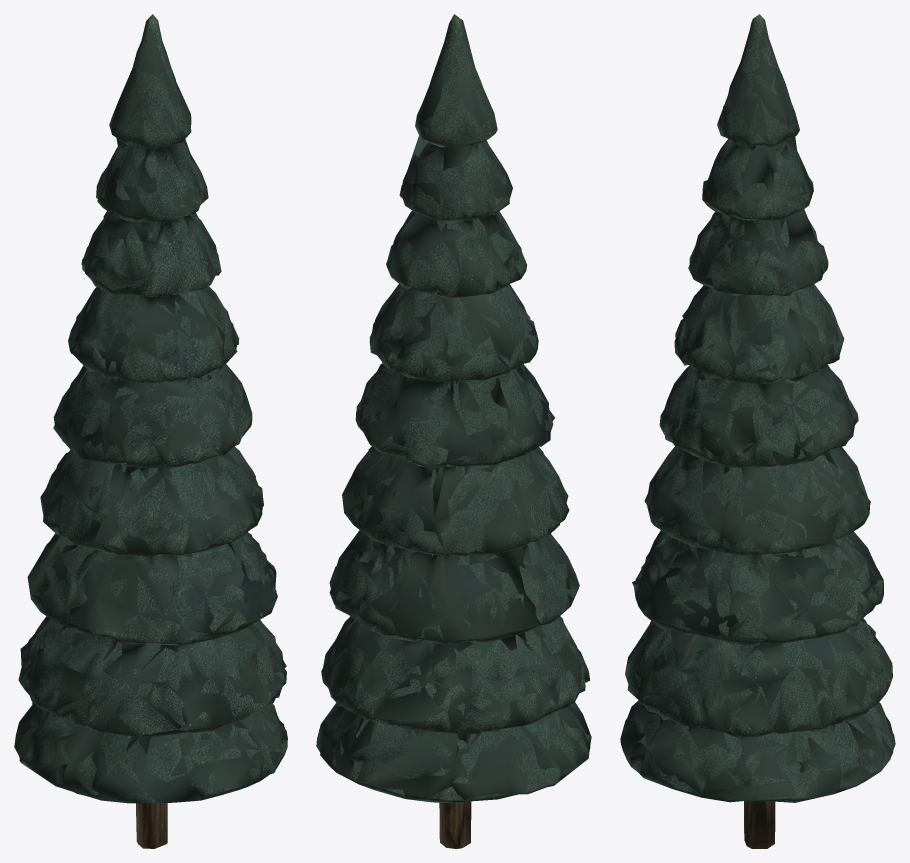
File: abeto.glb
3 views of the same model, side by side, from view 1: azimuth 30°, elevation 25°; view 2: azimuth 150°, elevation 25°; view 3: azimuth 270°, elevation 25° (orthographic).
Visible parts, largest first — view 1: cerca, medio, lejos; view 2: cerca, medio, lejos; view 3: cerca, medio, lejos.
Part boxes in pixels (box(x1,y1,x2,y2)): cerca: box(14, 14, 287, 848); medio: box(15, 26, 287, 848); lejos: box(20, 63, 282, 847); cerca: box(317, 14, 591, 848); medio: box(316, 24, 591, 836); lejos: box(320, 72, 587, 785); cerca: box(620, 14, 895, 848); medio: box(621, 24, 895, 847); lejos: box(637, 69, 892, 802).
Size of the model in its own units: 3.12 by 10.5 by 3.16.
Materials: 2 (1 with a texture image).
